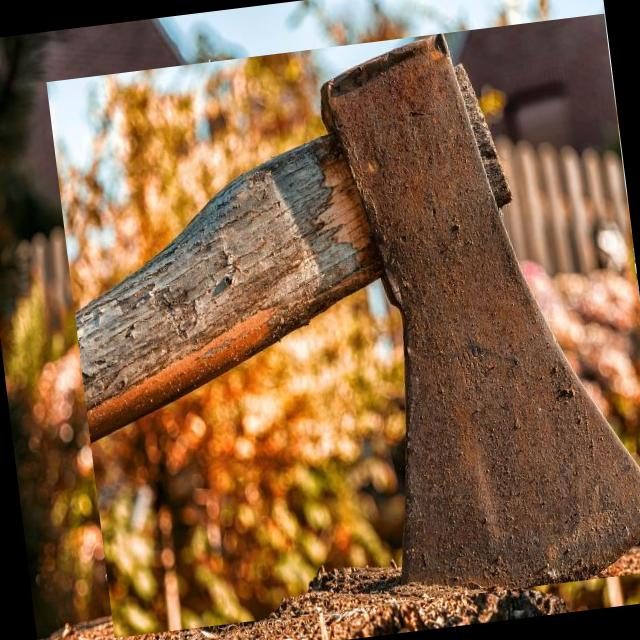Axe: (76, 35, 640, 587)
